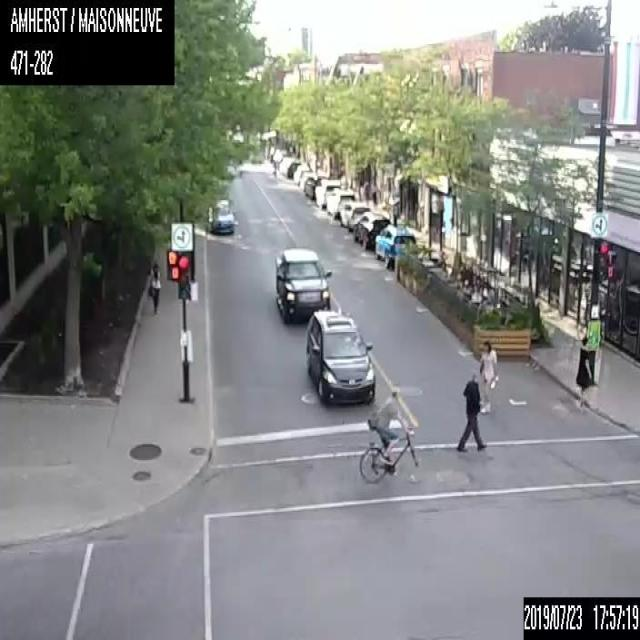cyclist: (357, 384, 428, 485)
pedestrian: (456, 371, 486, 449), (477, 338, 498, 414), (574, 334, 592, 414), (146, 261, 160, 316)
vehicle: (304, 306, 376, 407), (276, 246, 331, 322), (376, 224, 416, 269), (354, 210, 391, 255), (340, 201, 371, 230), (326, 187, 354, 219), (210, 196, 234, 233), (314, 178, 340, 206), (304, 175, 321, 198)
